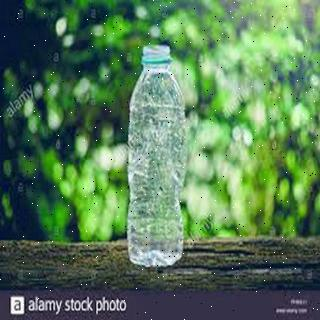Plastic-bottle: (126, 45, 188, 269)
